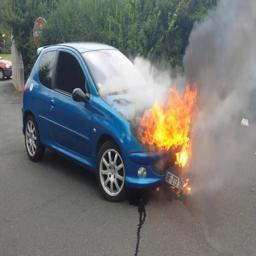fire: (140, 84, 198, 168)
